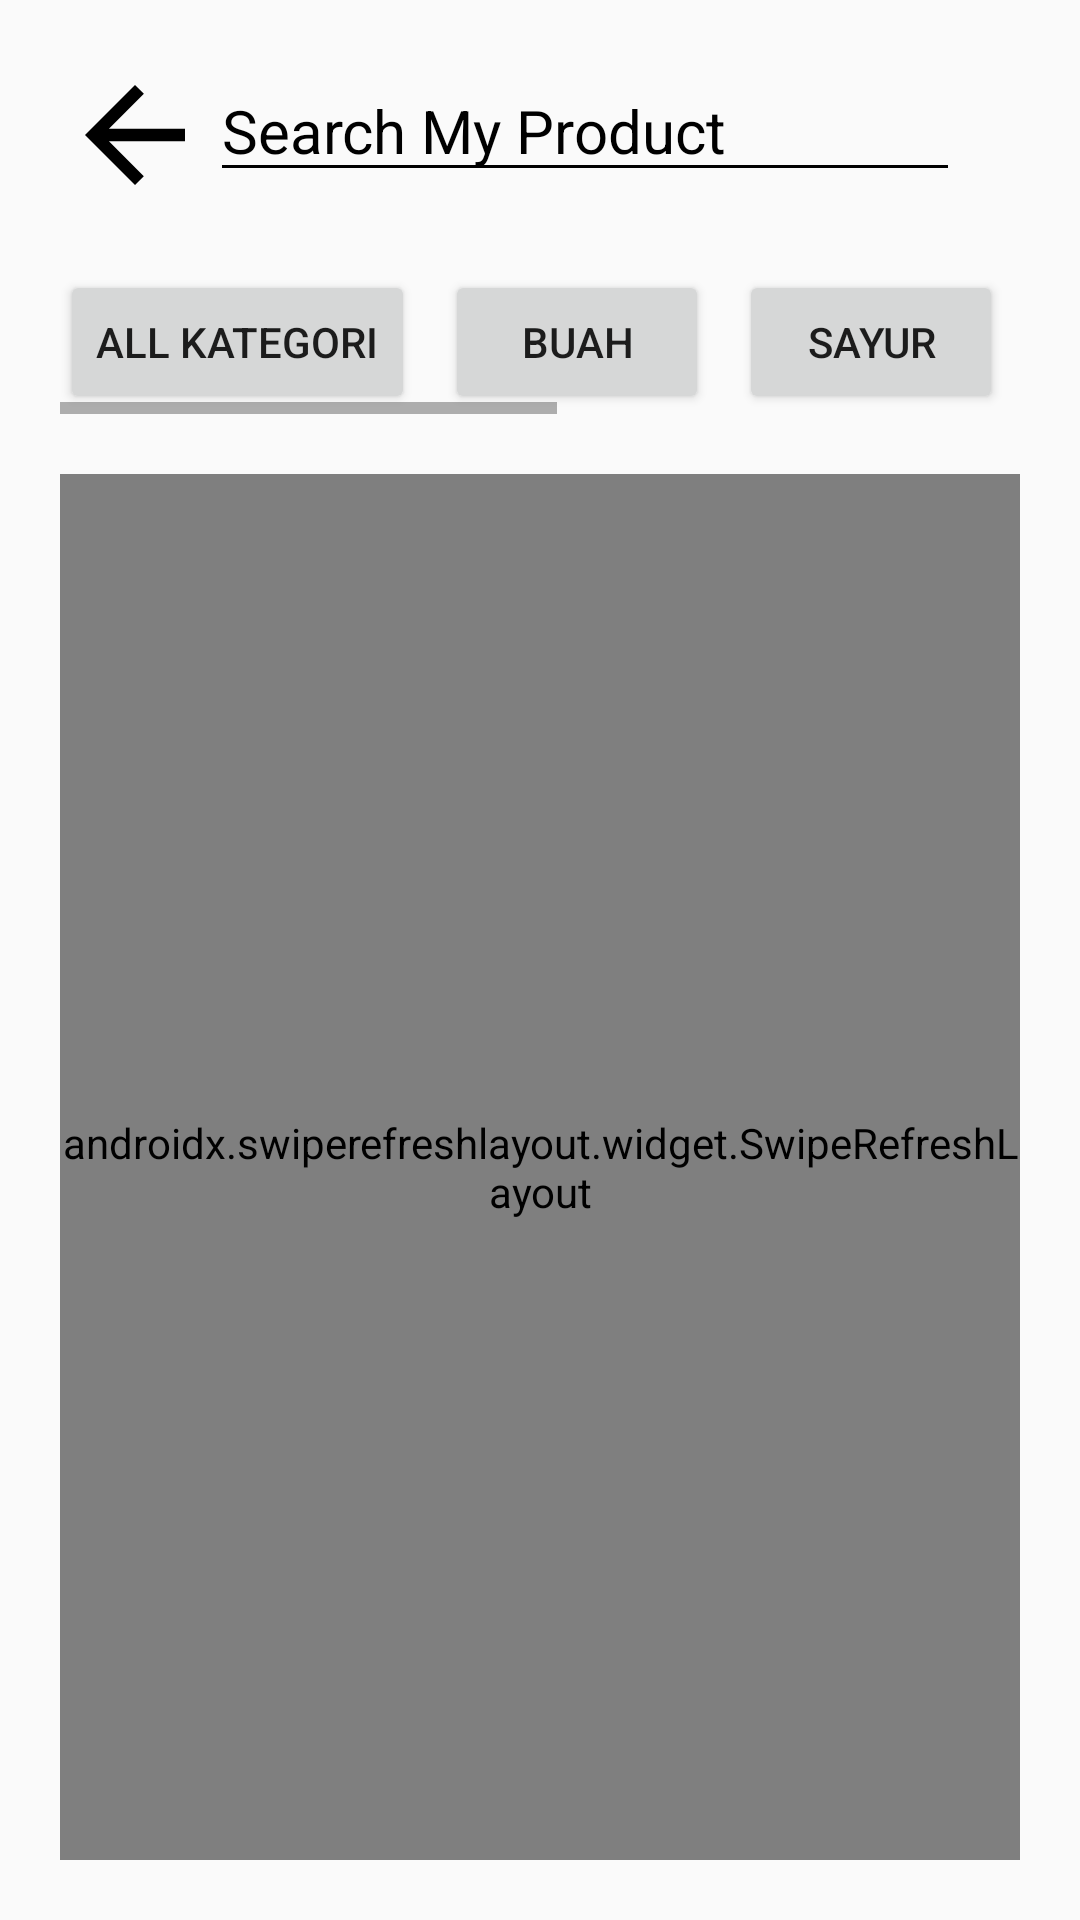

Screen size 1080 x 1920. Icon name, then its box in pixels as (x1, y1, x2, y2):
back: (85, 85, 185, 185)
